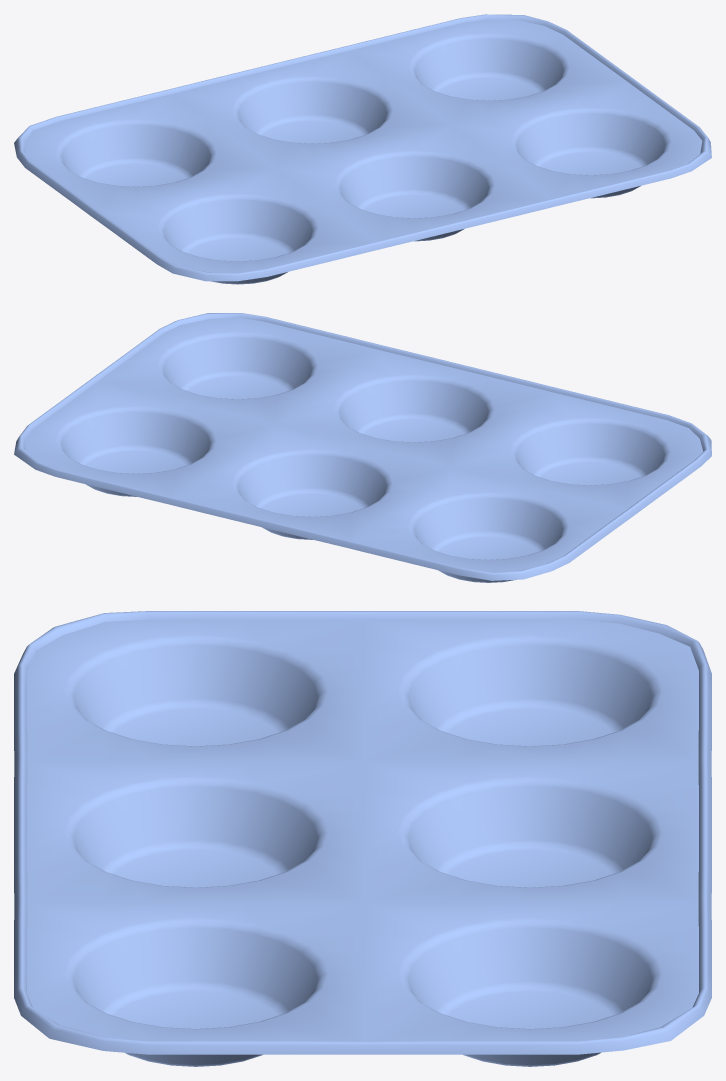
The model's file is tray.fbx.
3 renders of one model, top to bottom at view 1: azimuth 30°, elevation 25°; view 2: azimuth 150°, elevation 25°; view 3: azimuth 270°, elevation 25°, orthographic. The views are drawn at different scales.
Visible parts, largest first — view 1: tray 6; view 2: tray 6; view 3: tray 6.
Part boxes in pixels (box(x1,y1,x2,y2)): tray 6: box(14, 14, 711, 284); tray 6: box(14, 313, 711, 582); tray 6: box(14, 611, 711, 1066).
Bounding box in the file's own units: 19.09 × 1.26 × 12.89.
